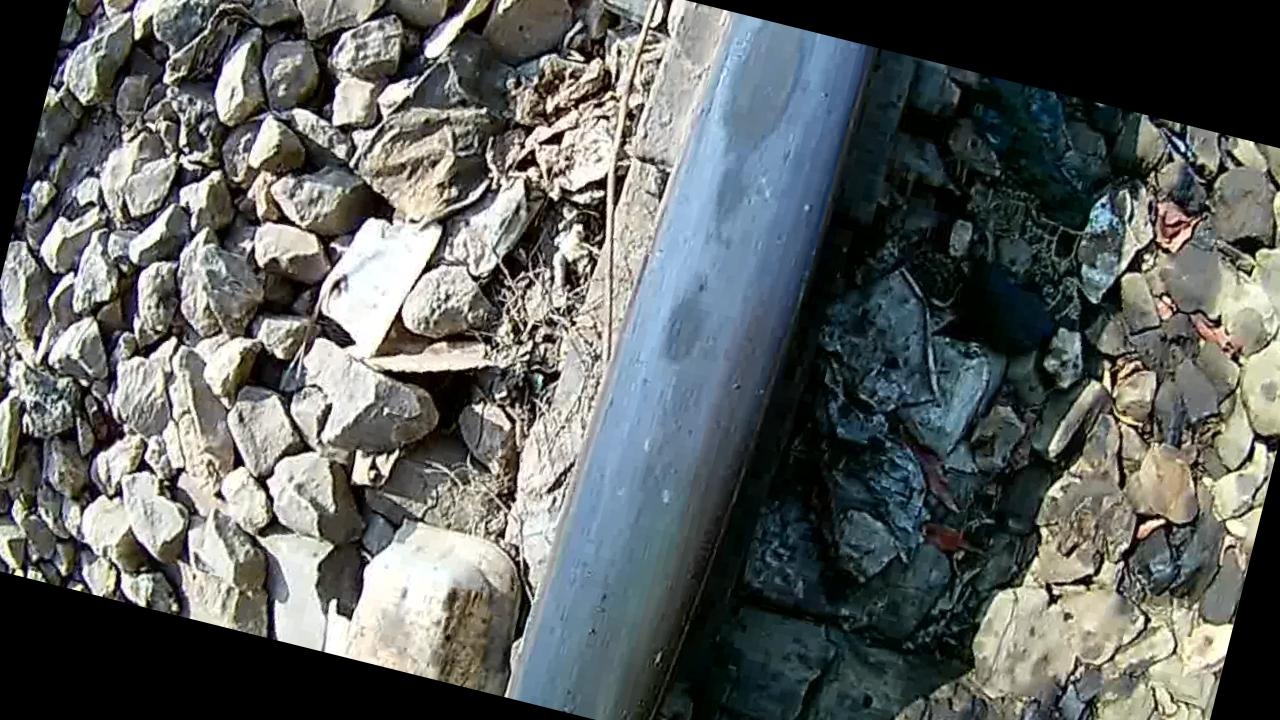bolt_missing: (622, 7, 851, 406)
